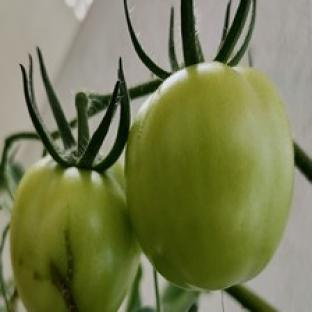Tomato: (126, 63, 293, 289), (12, 158, 139, 311)
